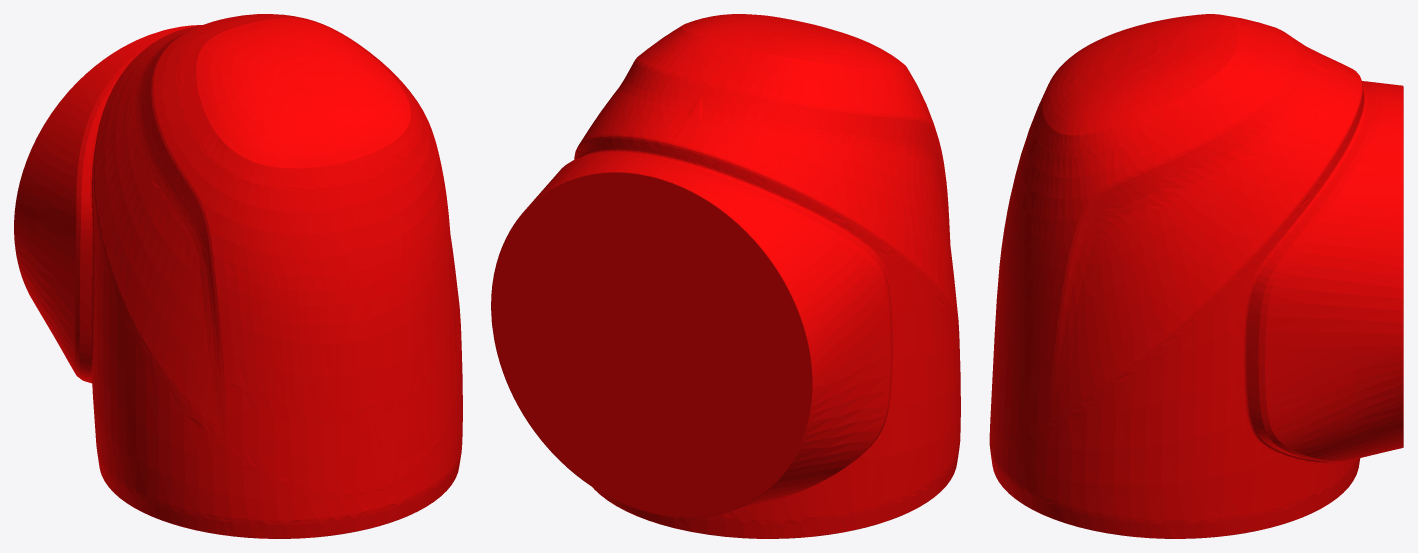
The picture shows the model from 3 angles, left to right: view 1: azimuth 30°, elevation 25°; view 2: azimuth 150°, elevation 25°; view 3: azimuth 270°, elevation 25°; orthographic projection. The views are drawn at different scales.
Visible parts, largest first — view 1: H2515_1_0; view 2: H2515_1_0; view 3: H2515_1_0.
Boxes of the visible parts, x1,y1,x2,y2 form: H2515_1_0: (14,14,462,538); H2515_1_0: (491,14,960,538); H2515_1_0: (989,14,1403,538).
Bounding box in the file's own units: 213 × 233 × 264.
